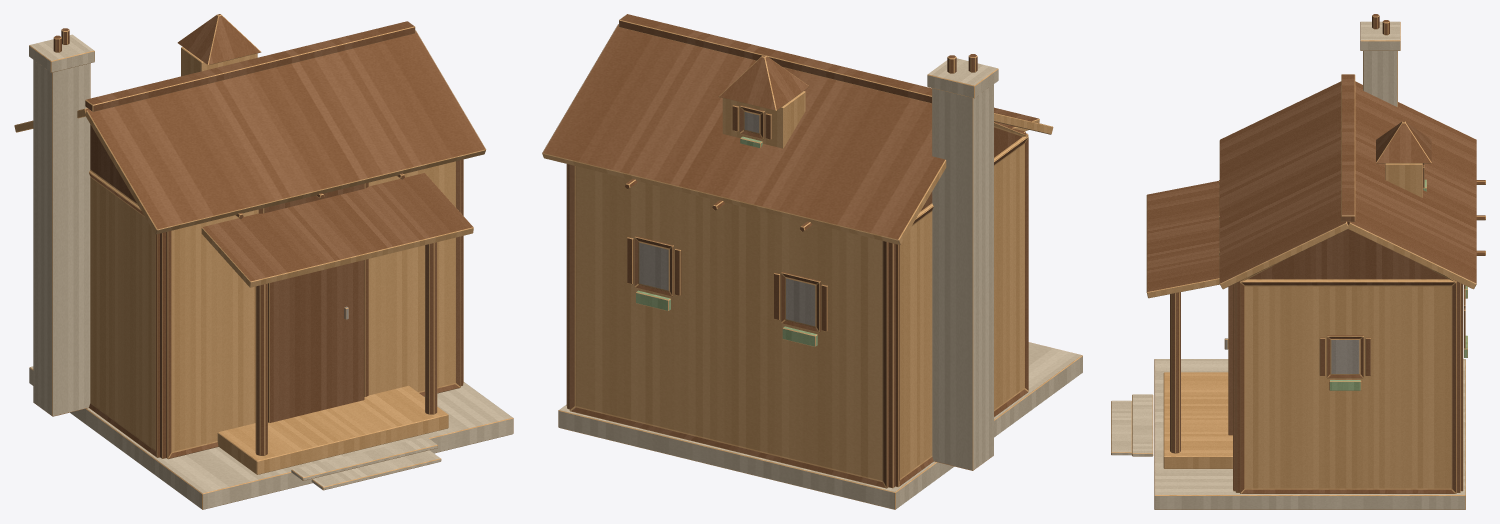
File: sm_homestead.glb
3 renders of one model, left to right at view 1: azimuth 30°, elevation 25°; view 2: azimuth 150°, elevation 25°; view 3: azimuth 270°, elevation 25°, orthographic. The views are drawn at different scales.
Parts seen in each view (by area): view 1: sm_homestead; view 2: sm_homestead; view 3: sm_homestead.
Part boxes in pixels (x1,y1,x2,y2): sm_homestead: (14,14,513,509); sm_homestead: (542,14,1082,509); sm_homestead: (1111,14,1485,509).
Size of the model in its own units: 3.17 by 3.29 by 3.2.
Materials: 1 (1 with a texture image).
